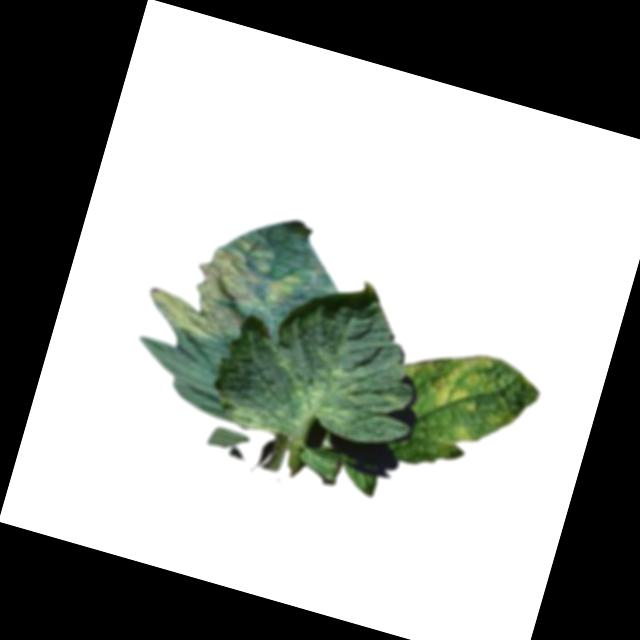Leaf_Mold: (141, 218, 311, 362), (394, 337, 530, 454)
